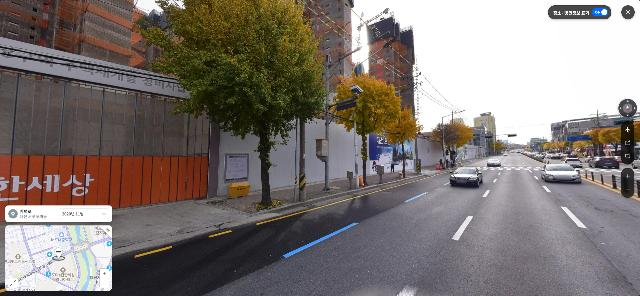ginkgo: (328, 72, 403, 186), (383, 109, 423, 179), (430, 121, 475, 166), (590, 128, 612, 156), (621, 122, 640, 149), (607, 125, 623, 155)
other: (132, 0, 330, 207)
